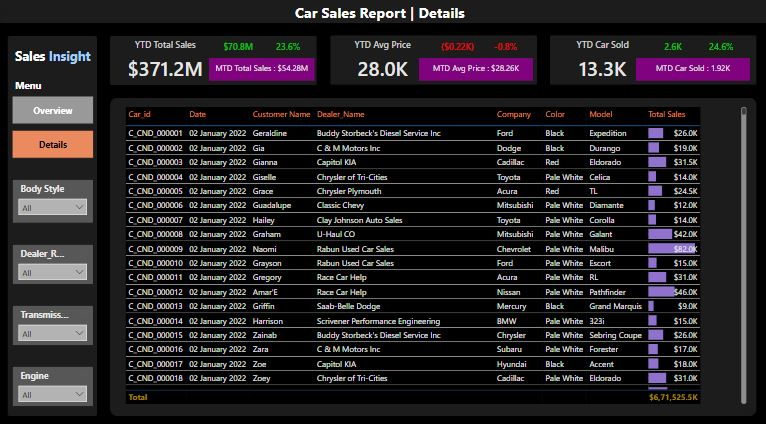

What the dashboard file says about the page in this screenshot:
{"tool":"powerbi","page":{"name":"Details","canvas":[1280,720],"ordinal":1},"visuals":[{"type":"card","title":"YTD Total Sales","fields":{"Values":["Measure.Total YTD Sales"]},"box":[189.9,65.2,177.2,82.2],"z":0},{"type":"card","fields":{"Values":["Measure.Sales Difference"]},"box":[367.1,65.2,66.6,32.6],"z":1000},{"type":"card","fields":{"Values":["Measure.YOY Sales Growth"]},"box":[450.7,65.2,66.6,32.6],"z":2000},{"type":"card","title":"YTD Avg Price","fields":{"Values":["Measure.YTD Avg Price"]},"box":[557,65.2,168.7,82.2],"z":3000},{"type":"card","fields":{"Values":["Measure.MTD KPI"]},"box":[351,97.8,175.7,38.3],"z":4000},{"type":"card","fields":{"Values":["Measure.Avg Price Difference"]},"box":[701.6,65.2,127.6,32.6],"z":5000},{"type":"card","fields":{"Values":["Measure.YOY Avg Price Growth"]},"box":[782.4,65.2,127.6,32.6],"z":6000},{"type":"card","fields":{"Values":["Measure.MTD Avg Price KPI"]},"box":[701.6,97.8,189.9,38.3],"z":7000},{"type":"card","title":"YTD Car Sold","fields":{"Values":["Measure.YTD Car Sold"]},"box":[922.7,65.2,168.7,82.2],"z":8000},{"type":"card","fields":{"Values":["Measure.Car Sold Difference"]},"box":[1091.3,65.2,66.6,32.6],"z":9000},{"type":"card","fields":{"Values":["Measure.YOY Car Sold Growth"]},"box":[1140.9,65.2,127.6,32.6],"z":10000},{"type":"card","fields":{"Values":["Measure.MTD Car Sold KPI"]},"box":[1063,97.8,189.9,38.3],"z":11000},{"type":"textbox","box":[490.5,0,299.1,66.6],"z":12000},{"type":"slicer","fields":{"Values":["car_data.Body Style"]},"box":[24,300.5,136,73.7],"z":13000},{"type":"slicer","fields":{"Values":["car_data.Dealer_Region"]},"box":[24.1,407.7,136.1,68],"z":14000},{"type":"slicer","fields":{"Values":["car_data.Transmission"]},"box":[24.1,509.3,136.1,68],"z":15000},{"type":"slicer","fields":{"Values":["car_data.Engine"]},"box":[24.1,610.9,136.1,68],"z":16000},{"type":"tableEx","fields":{"Values":["car_data.Car_id","car_data.Date","car_data.Customer Name","car_data.Dealer_Name","car_data.Company","car_data.Color","car_data.Model","Sum(car_data.Price ($))"]},"box":[206.9,174.3,1046,504.6],"z":17000},{"type":"textbox","box":[24,75.1,150.2,45.4],"z":17001},{"type":"textbox","box":[24,128,73.7,35.4],"z":17002},{"type":"pageNavigator","box":[24.1,161.6,136.1,104.9],"z":17003}]}

Visuals, with their boxes in screenshot pixels (x1, y1, x2, y2), scaled from the page's 1280x720 canvas onto the 766x424 screenshot:
"YTD Total Sales" card: crop(114, 38, 220, 87)
card - Measure.Sales Difference: crop(220, 38, 260, 58)
card - Measure.YOY Sales Growth: crop(270, 38, 310, 58)
"YTD Avg Price" card: crop(333, 38, 434, 87)
card - Measure.MTD KPI: crop(210, 58, 315, 80)
card - Measure.Avg Price Difference: crop(420, 38, 496, 58)
card - Measure.YOY Avg Price Growth: crop(468, 38, 545, 58)
card - Measure.MTD Avg Price KPI: crop(420, 58, 534, 80)
"YTD Car Sold" card: crop(552, 38, 653, 87)
card - Measure.Car Sold Difference: crop(653, 38, 693, 58)
card - Measure.YOY Car Sold Growth: crop(683, 38, 759, 58)
card - Measure.MTD Car Sold KPI: crop(636, 58, 750, 80)
textbox: crop(294, 0, 473, 39)
slicer - car_data.Body Style: crop(14, 177, 96, 220)
slicer - car_data.Dealer_Region: crop(14, 240, 96, 280)
slicer - car_data.Transmission: crop(14, 300, 96, 340)
slicer - car_data.Engine: crop(14, 360, 96, 400)
tableEx - car_data.Car_id x car_data.Date: crop(124, 103, 750, 400)
textbox: crop(14, 44, 104, 71)
textbox: crop(14, 75, 58, 96)
pageNavigator: crop(14, 95, 96, 157)
